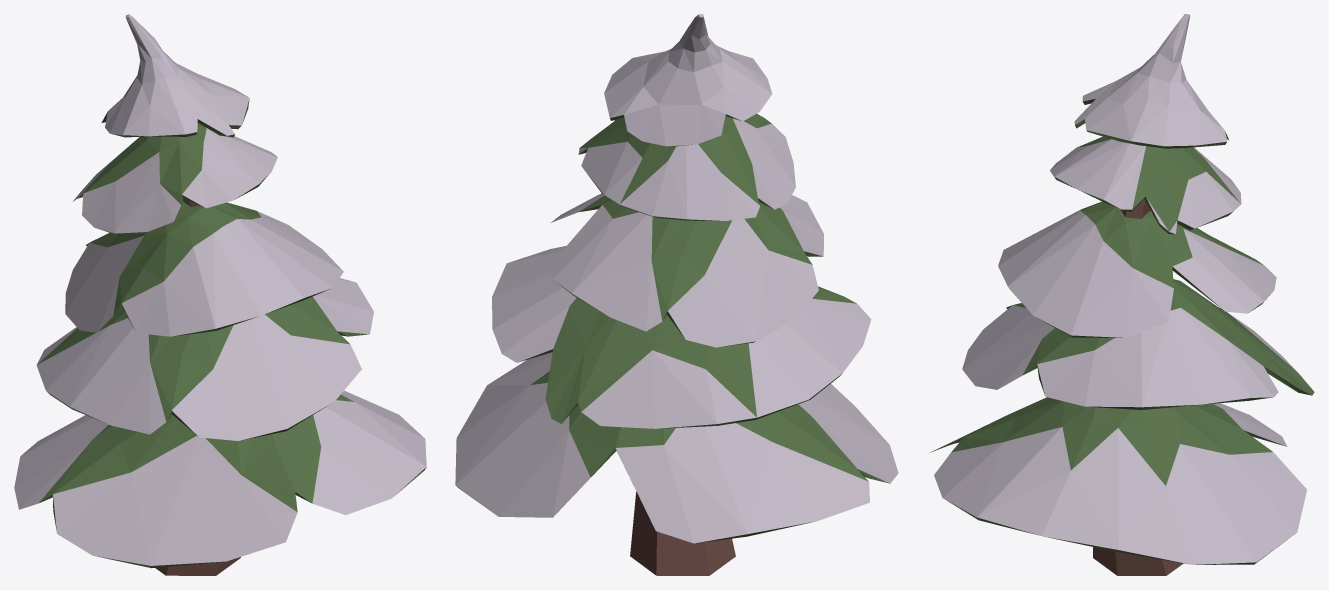
File: PineTree_Snow_1.lod1.glb
The picture shows the model from 3 angles, left to right: view 1: azimuth 30°, elevation 25°; view 2: azimuth 150°, elevation 25°; view 3: azimuth 270°, elevation 25°; orthographic projection. The views are drawn at different scales.
Visible parts, largest first — view 1: PineTree_Snow_1; view 2: PineTree_Snow_1; view 3: PineTree_Snow_1.
Part boxes in pixels (box(x1,y1,x2,y2)): PineTree_Snow_1: box(14, 14, 426, 575); PineTree_Snow_1: box(455, 14, 898, 575); PineTree_Snow_1: box(929, 14, 1314, 575).
Size of the model in its own units: 1.95 by 2.7 by 1.8.
